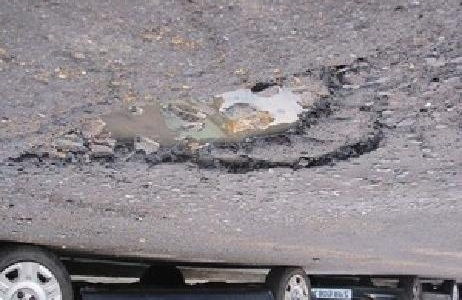pothole: (7, 52, 386, 177)
